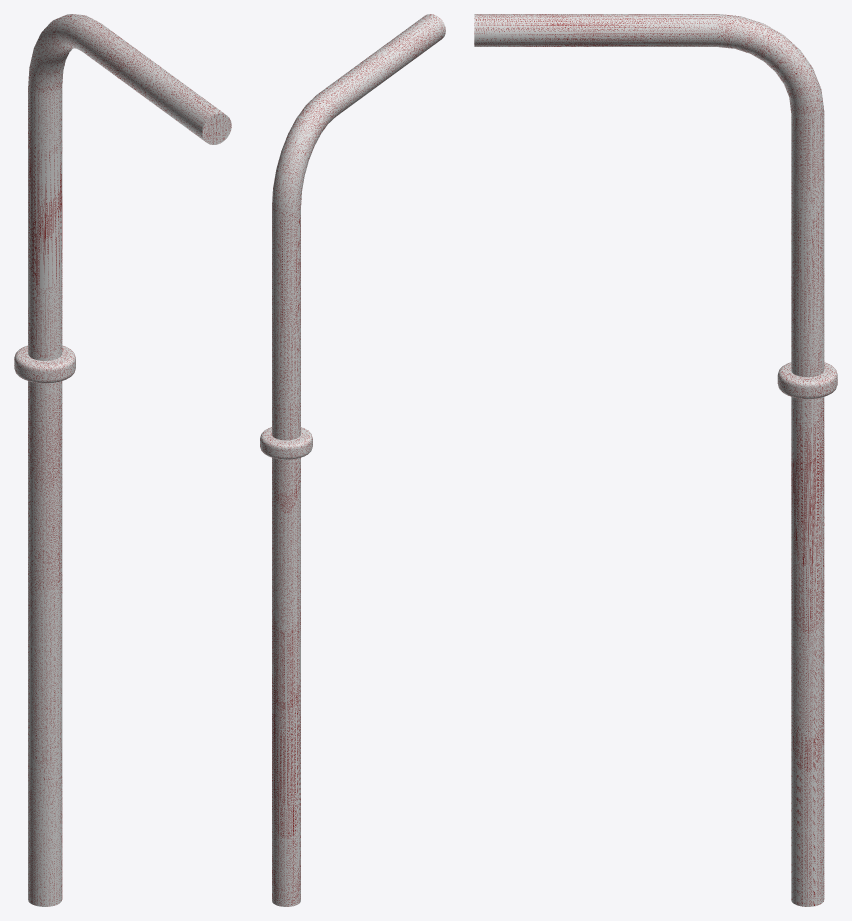
Rendered from original-2.obj.
The picture shows the model from 3 angles, left to right: view 1: azimuth 30°, elevation 25°; view 2: azimuth 150°, elevation 25°; view 3: azimuth 270°, elevation 25°; orthographic projection. The views are drawn at different scales.
Parts seen in each view (by area): view 1: mesh1/mesh1-geometry#mesh1-geometry; view 2: mesh1/mesh1-geometry#mesh1-geometry; view 3: mesh1/mesh1-geometry#mesh1-geometry.
Part boxes in pixels (<box>): mesh1/mesh1-geometry#mesh1-geometry: <box>14,14,231,906</box>; mesh1/mesh1-geometry#mesh1-geometry: <box>260,14,445,906</box>; mesh1/mesh1-geometry#mesh1-geometry: <box>474,14,837,906</box>.
Size of the model in its own units: 0.0335 by 0.5448 by 0.2029.
